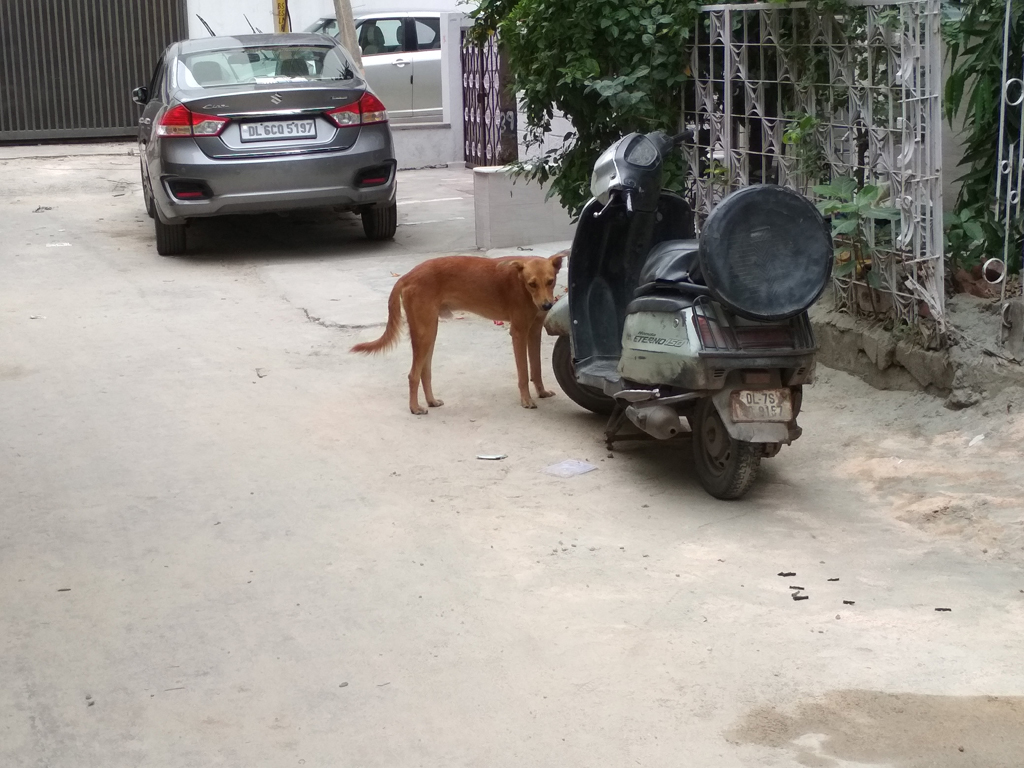dog: (351, 250, 572, 417)
